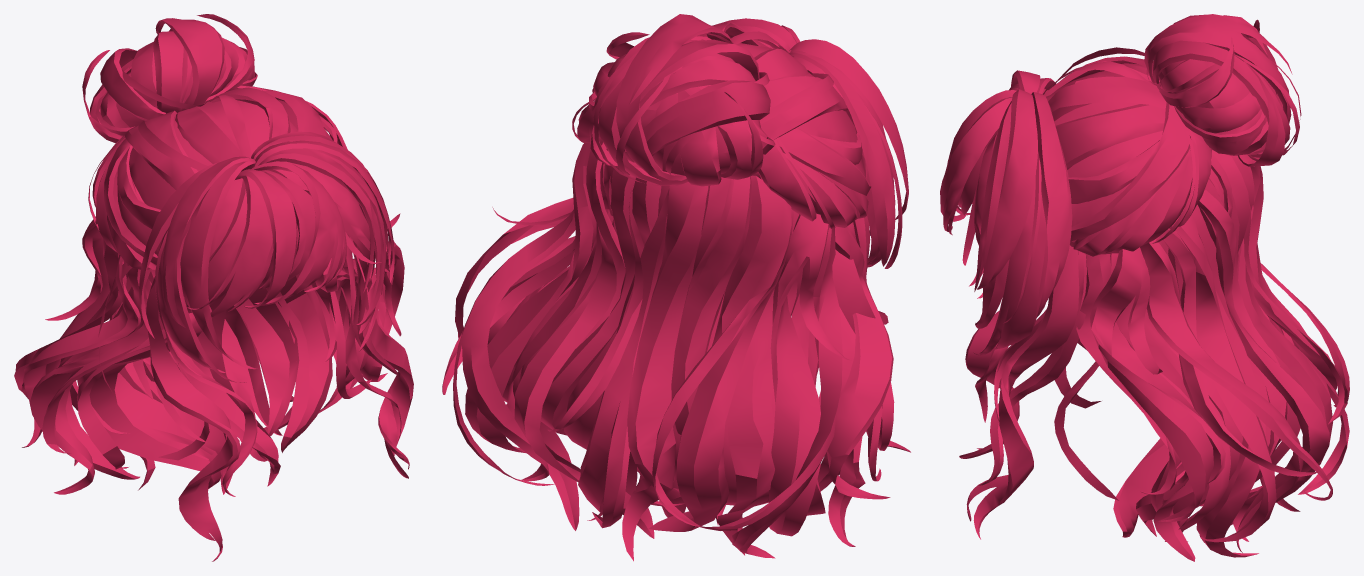
Rendered from pelo lolo.fbx.
3 renders of one model, left to right at view 1: azimuth 30°, elevation 25°; view 2: azimuth 150°, elevation 25°; view 3: azimuth 270°, elevation 25°, orthographic. The views are drawn at different scales.
Parts seen in each view (by area): view 1: pelo 2; view 2: pelo 2; view 3: pelo 2.
Boxes of the visible parts, left/top/right/bottom form: pelo 2: left=14, top=14, right=413, bottom=561; pelo 2: left=442, top=14, right=910, bottom=561; pelo 2: left=940, top=14, right=1349, bottom=561.
Bounding box in the file's own units: 641 × 741 × 537.
